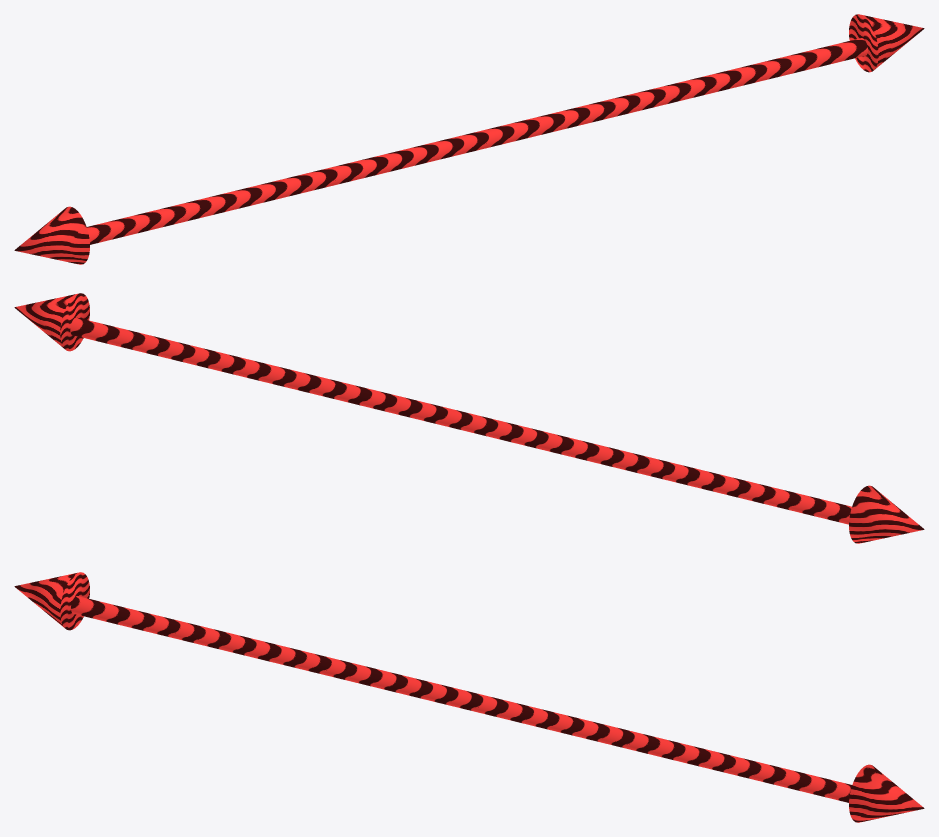
The model's file is Spotlight_RedArrow_Straight.glb.
3 views of the same model, one above another, from view 1: azimuth 30°, elevation 25°; view 2: azimuth 150°, elevation 25°; view 3: azimuth 330°, elevation 25° (orthographic).
Parts seen in each view (by area): view 1: Cylinder.041, Cone.021, Cone.025; view 2: Cylinder.041, Cone.021, Cone.025; view 3: Cylinder.041, Cone.025, Cone.021.
Part boxes in pixels (box(x1,y1,x2,y2)): Cylinder.041: box(86, 38, 867, 244); Cone.021: box(14, 206, 89, 264); Cone.025: box(849, 14, 924, 72); Cylinder.041: box(70, 317, 851, 524); Cone.021: box(849, 485, 924, 543); Cone.025: box(14, 293, 89, 351); Cylinder.041: box(71, 596, 852, 802); Cone.025: box(849, 764, 924, 822); Cone.021: box(14, 572, 89, 630).
Size of the model in its own units: 1.59 by 0.0901 by 0.0901.
1 material, 1 textured.
